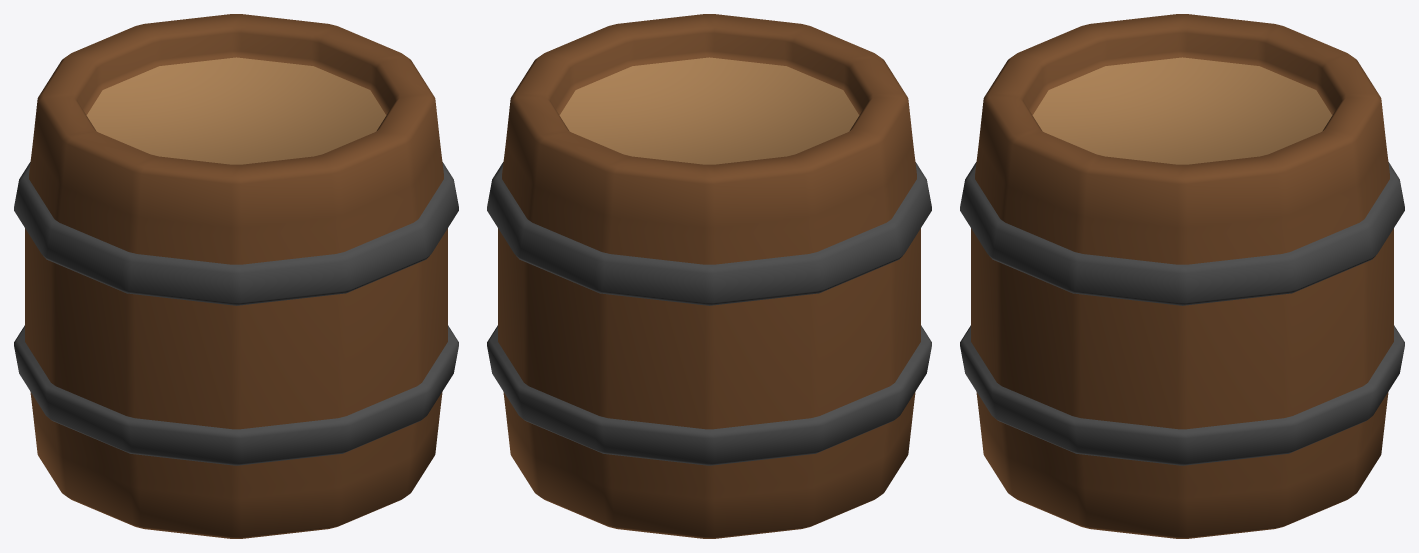
File: barrel.001.glb
3 renders of one model, left to right at view 1: azimuth 30°, elevation 25°; view 2: azimuth 150°, elevation 25°; view 3: azimuth 270°, elevation 25°, orthographic.
Visible parts, largest first — view 1: barrel.001; view 2: barrel.001; view 3: barrel.001.
Boxes of the visible parts, x1,y1,x2,y2 form: barrel.001: (14, 14, 458, 538); barrel.001: (487, 14, 931, 538); barrel.001: (960, 14, 1404, 538).
Bounding box in the file's own units: 4.46 × 4 × 4.46.
